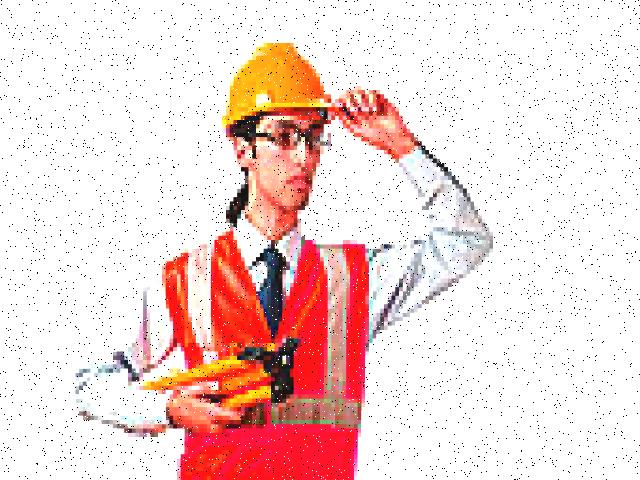Helmet: (212, 32, 341, 138)
